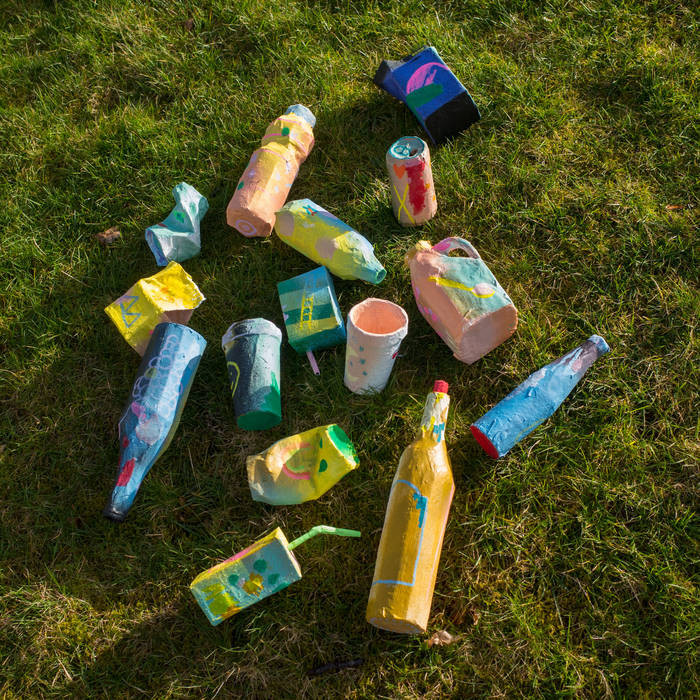cardboard: (169, 514, 359, 621), (375, 51, 492, 139), (99, 260, 219, 345), (275, 264, 345, 353)
glass: (364, 376, 453, 651), (461, 321, 627, 464), (100, 320, 206, 533)
metal: (367, 138, 449, 221)
paper: (117, 181, 219, 271)
plastic: (399, 225, 507, 360), (215, 85, 312, 233), (258, 189, 388, 288), (224, 314, 288, 436), (343, 291, 407, 390)
